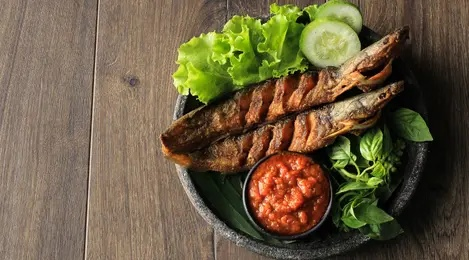pecel_lele: (155, 26, 416, 130), (155, 77, 407, 168)
